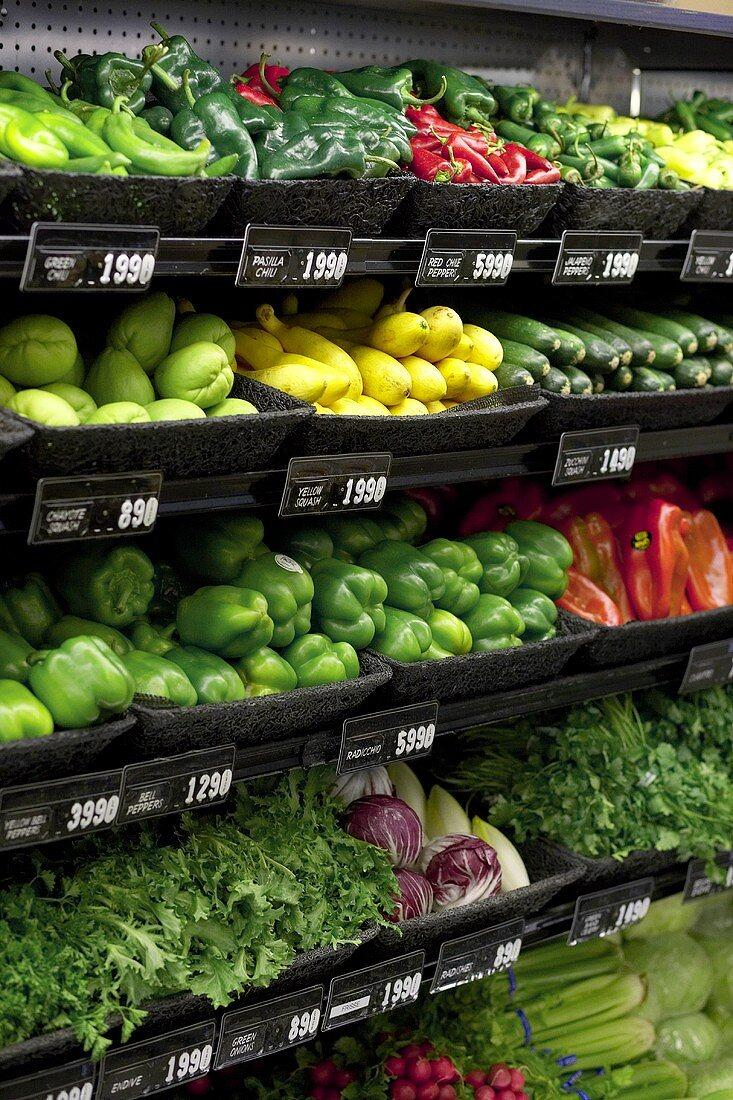cabbage: (603, 890, 733, 1099)
sweet pepper: (1, 499, 577, 741), (459, 464, 733, 622)
